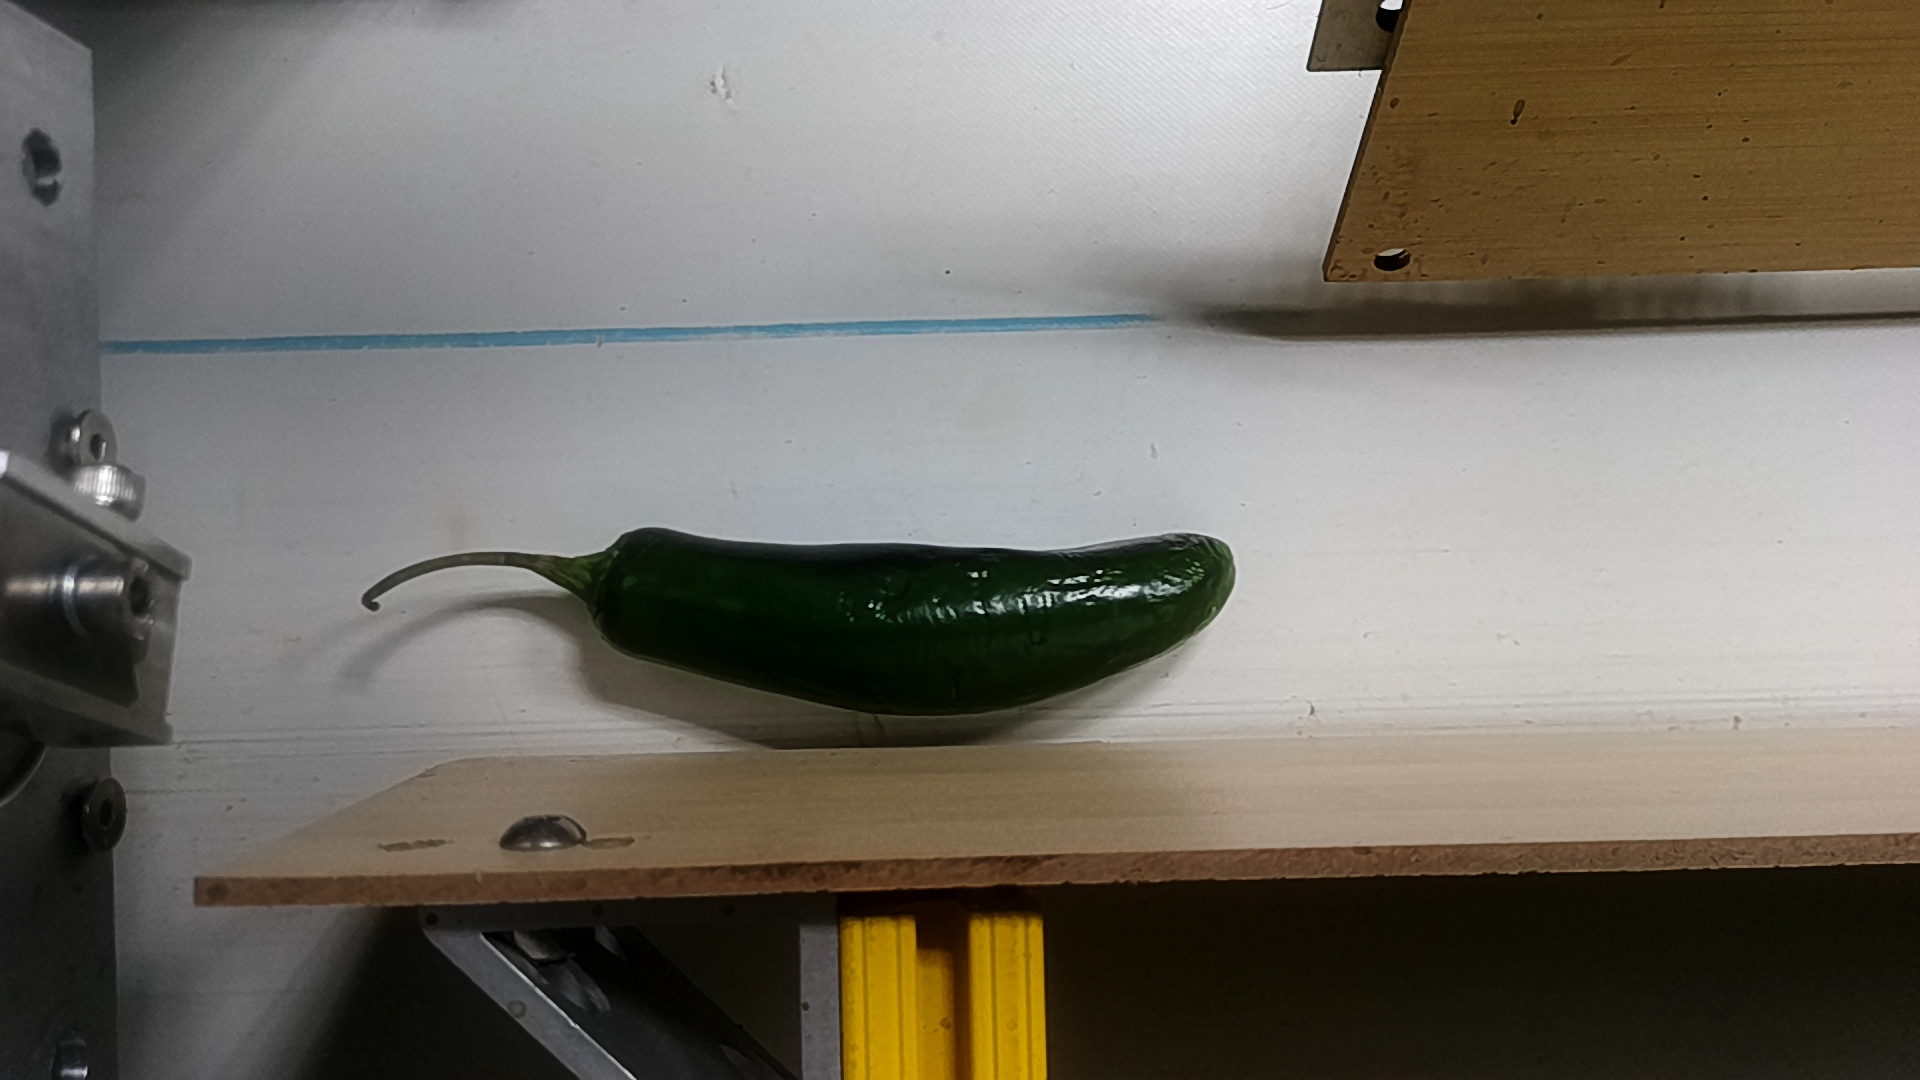Cut Point: (535, 512, 690, 669)
